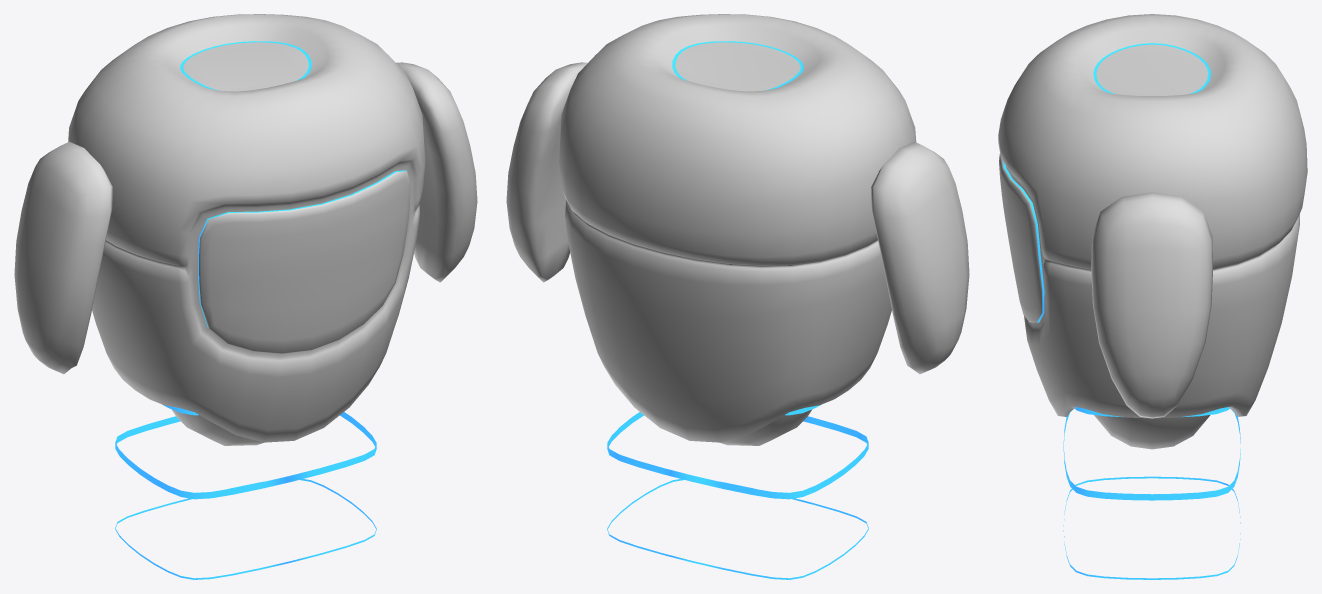
The model's file is cuerpo.glb.
The picture shows the model from 3 angles, left to right: view 1: azimuth 30°, elevation 25°; view 2: azimuth 150°, elevation 25°; view 3: azimuth 270°, elevation 25°; orthographic projection.
Parts seen in each view (by area): view 1: Robot, hANDS.002, hANDS, Wave.002, Wave.003; view 2: Robot, hANDS.002, hANDS, Wave.002, Wave.003; view 3: Robot, hANDS, Wave.002, Wave.003.
Part boxes in pixels (x1=…): Robot: x1=68, y1=14, x2=425, y2=445; hANDS.002: x1=14, y1=141, x2=112, y2=374; hANDS: x1=396, y1=62, x2=477, y2=282; Wave.002: x1=115, y1=412, x2=376, y2=499; Wave.003: x1=115, y1=479, x2=376, y2=579; Robot: x1=559, y1=14, x2=916, y2=445; hANDS.002: x1=871, y1=141, x2=969, y2=374; hANDS: x1=506, y1=62, x2=587, y2=282; Wave.002: x1=607, y1=412, x2=868, y2=499; Wave.003: x1=607, y1=479, x2=868, y2=579; Robot: x1=998, y1=14, x2=1307, y2=449; hANDS: x1=1091, y1=192, x2=1213, y2=418; Wave.002: x1=1063, y1=410, x2=1240, y2=500; Wave.003: x1=1063, y1=476, x2=1240, y2=579.
Size of the model in its own units: 2.07 by 2.17 by 1.29.
